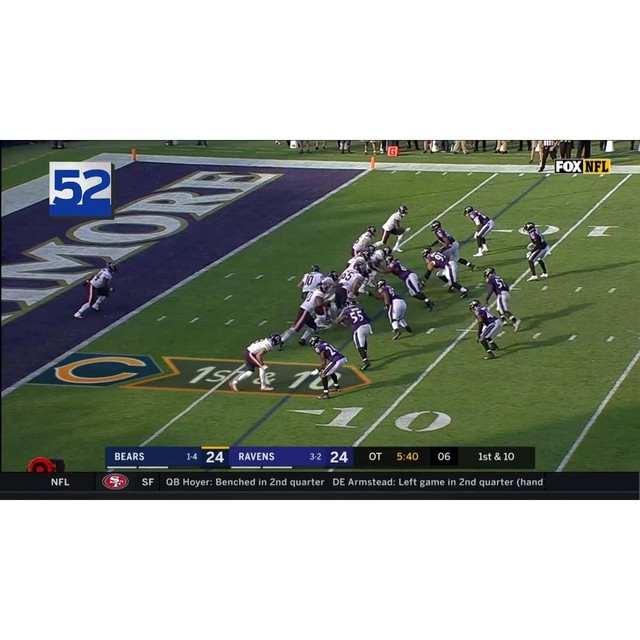american-football-player: (281, 280, 331, 348), (383, 253, 436, 313), (231, 332, 282, 392), (337, 296, 374, 372), (71, 261, 117, 320), (420, 247, 470, 297), (373, 279, 413, 340), (483, 267, 521, 331), (309, 336, 347, 398), (429, 221, 476, 270), (468, 299, 505, 359), (372, 205, 410, 253), (521, 222, 551, 281), (463, 205, 494, 256), (350, 225, 377, 258), (299, 264, 325, 298)
